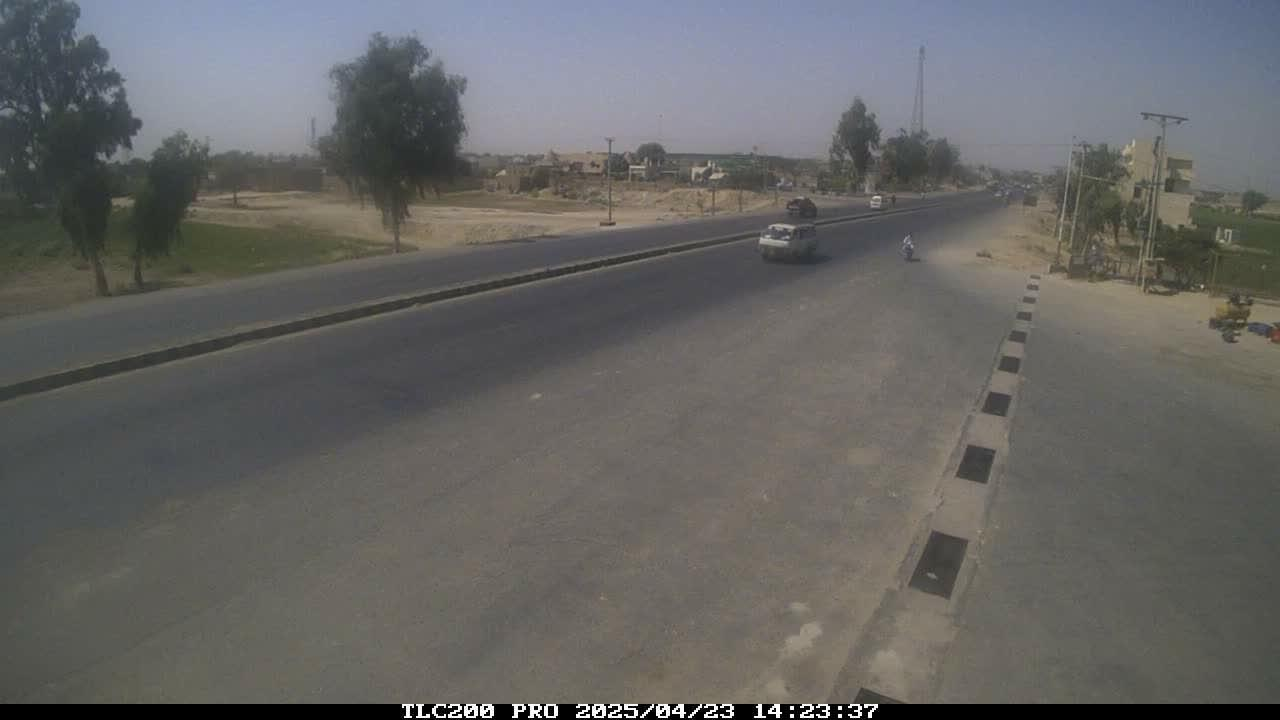van: (756, 223, 824, 262)
